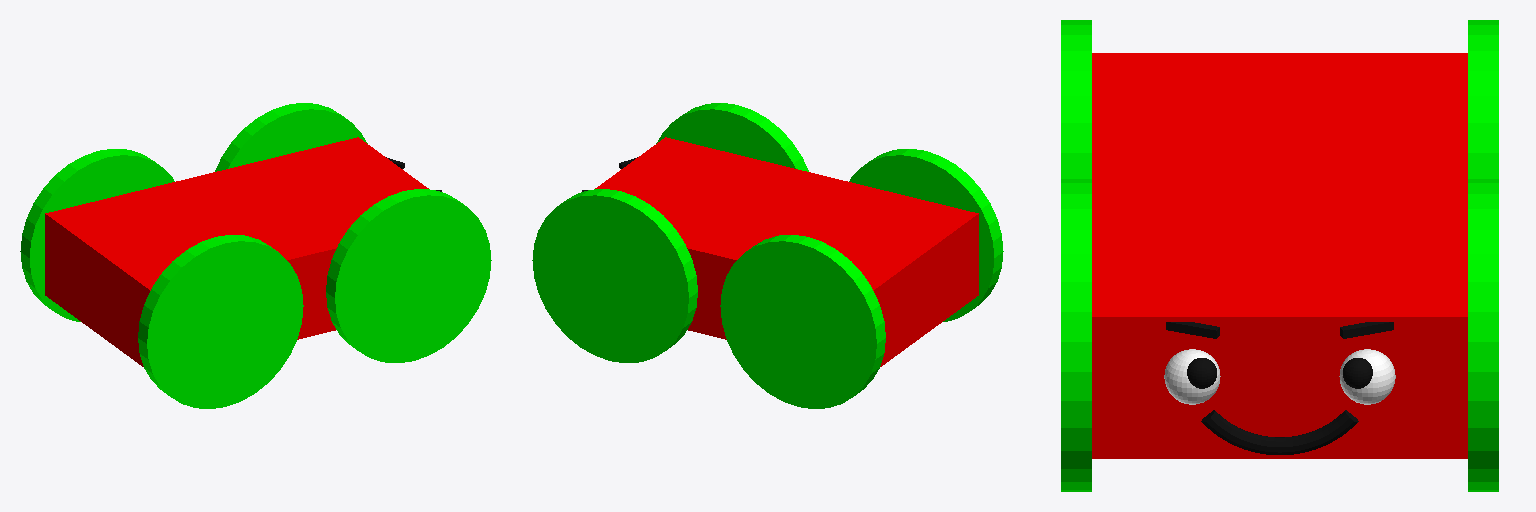
The robot description file, URDF, robot "car_robot":
<?xml version='1.0'?>
<robot name="car_robot">
	
	<material name="green">
		<color rgba="0 1 0.0 1"/>
	</material>

	<material name="white">
		<color rgba="1 1 1 1"/>
	</material>

	<material name="black">
		<color rgba="0.1 0.1 0.1 1"/>
	</material>
	
	<!--dummy link-->
	<link name="base_link"/>

	<!--chassis link-->
	<link name="chassis-link">
		<visual>
			<origin xyz="0 0 0" rpy="0 0 0" />
			<geometry>
				<box size="0.2 0.12 .05" />
			</geometry>
			<material name="red">
				<color rgba="1.0 0 0 1"/>
			</material>		
		</visual>
		<collision>
			<origin xyz="0 0 0" rpy="0 0 0" />
			<geometry>
				<box size="0.2 0.12 .01" />
			</geometry>
		</collision>
		<inertial>
			<mass value="0.4" />
			<inertia ixx="0.00048333" iyy="0.0013367" izz="0.0018133"
			ixy="0" ixz="0" iyz="0"/>
		</inertial>
	</link>

	<!-- ========== FACE LINKS ========== -->

	<link name="eye-left-link">
		<visual>
			<origin xyz="0 0 0" rpy="0 0 0" />
			<geometry><sphere radius="0.009" /></geometry>
			<material name="white" />
		</visual>
	</link>

	<link name="eye-right-link">
		<visual>
			<origin xyz="0 0 0" rpy="0 0 0" />
			<geometry><sphere radius="0.009" /></geometry>
			<material name="white" />
		</visual>
	</link>

	<link name="pupil-left-link">
		<visual>
			<origin xyz="0 0 0" rpy="0 0 0" />
			<geometry><sphere radius="0.005" /></geometry>
			<material name="black" />
		</visual>
	</link>

	<link name="pupil-right-link">
		<visual>
			<origin xyz="0 0 0" rpy="0 0 0" />
			<geometry><sphere radius="0.005" /></geometry>
			<material name="black" />
		</visual>
	</link>

	<link name="eyebrow-left-link">
		<visual>
			<origin xyz="0 0 0" rpy="0 0 0.4" />
			<geometry><box size="0.003 0.018 0.003" /></geometry>
			<material name="black" />
		</visual>
	</link>

	<link name="eyebrow-right-link">
		<visual>
			<origin xyz="0 0 0" rpy="0 0 -0.4" />
			<geometry><box size="0.003 0.018 0.003" /></geometry>
			<material name="black" />
		</visual>
	</link>

	<link name="smile-link">
	<visual>
		<origin xyz="0 0 0" rpy="0 0 0" />
		<geometry>
		<mesh filename="package://car_robot/meshes/smile.stl" scale="1 1 1"/>
		</geometry>
		<material name="black" />
	</visual>
	</link>

	<!-- ========== WHEEL LINKS ========== -->

	<link name="front-right-wheel-link">
		<visual>
			<origin xyz="0 0 0" rpy="1.57079 0 0" />
			<geometry>
				<cylinder radius ="0.05" length="0.01" />
			</geometry>
			<material name="green" />
		</visual>
		<collision>
			<origin xyz="0 0 0" rpy="1.57079 0 0" />
			<geometry>
				<cylinder radius ="0.05" length="0.01" />
			</geometry>
		</collision>
		<inertial>
			<origin xyz="0 0 0" rpy="1.57079 0 0" />
			<mass value="0.2" />
			<inertia ixx="0.00004667" iyy="0.00004667" izz="0.00009"
			ixy="0" ixz="0" iyz="0"/>
		</inertial>
	</link>
	
	<link name="front-left-wheel-link">
		<visual>
			<origin xyz="0 0 0" rpy="1.57079 0 0" />
			<geometry>
				<cylinder radius ="0.05" length="0.01" />
			</geometry>
			<material name="green" />
		</visual>
		<collision>
			<origin xyz="0 0 0" rpy="1.57079 0 0" />
			<geometry>
				<cylinder radius ="0.05" length="0.01" />
			</geometry>
		</collision>
		<inertial>
			<origin xyz="0 0 0" rpy="1.57079 0 0" />
			<mass value="0.2" />
			<inertia ixx="0.00004667" iyy="0.00004667" izz="0.00009"
			ixy="0" ixz="0" iyz="0"/>
		</inertial>
	</link>
	
	<link name="rear-right-wheel-link">
		<visual>
			<origin xyz="0 0 0" rpy="1.57079 0 0" />
			<geometry>
				<cylinder radius ="0.05" length="0.01" />
			</geometry>
			<material name="green" />
		</visual>
		<collision>
			<origin xyz="0 0 0" rpy="1.57079 0 0" />
			<geometry>
				<cylinder radius ="0.05" length="0.01" />
			</geometry>
		</collision>
		<inertial>
			<origin xyz="0 0 0" rpy="1.57079 0 0" />
			<mass value="0.2" />
			<inertia ixx="0.00004667" iyy="0.00004667" izz="0.00009"
			ixy="0" ixz="0" iyz="0"/>
		</inertial>
	</link>
	
	<link name="rear-left-wheel-link">
		<visual>
			<origin xyz="0 0 0" rpy="1.57079 0 0" />
			<geometry>
				<cylinder radius ="0.05" length="0.01" />
			</geometry>
			<material name="green" />
		</visual>
		<collision>
			<origin xyz="0 0 0" rpy="1.57079 0 0" />
			<geometry>
				<cylinder radius ="0.05" length="0.01" />
			</geometry>
		</collision>
		<inertial>
			<origin xyz="0 0 0" rpy="1.57079 0 0" />
			<mass value="0.2" />
			<inertia ixx="0.00004667" iyy="0.00004667" izz="0.00009"
			ixy="0" ixz="0" iyz="0"/>
		</inertial>
	</link>
	
	<!-- ========== CHASSIS JOINT ========== -->

	<joint name="joint-base-chassis" type="fixed">
		<parent link="base_link"/>
		<child link="chassis-link"/>
		<origin xyz="0 0 0.03" rpy="0 0 0" />
	</joint>

	<!-- ========== FACE JOINTS ========== -->

	<joint name="joint-eye-left" type="fixed">
		<parent link="chassis-link"/>
		<child link="eye-left-link"/>
		<origin xyz="0.102 0.028 0.005" rpy="0 0 0" />
	</joint>

	<joint name="joint-eye-right" type="fixed">
		<parent link="chassis-link"/>
		<child link="eye-right-link"/>
		<origin xyz="0.102 -0.028 0.005" rpy="0 0 0" />
	</joint>

	<joint name="joint-pupil-left" type="fixed">
		<parent link="eye-left-link"/>
		<child link="pupil-left-link"/>
		<origin xyz="0.006 -0.003 0.004" rpy="0 0 0" />
	</joint>

	<joint name="joint-pupil-right" type="fixed">
		<parent link="eye-right-link"/>
		<child link="pupil-right-link"/>
		<origin xyz="0.006 0.003 0.004" rpy="0 0 0" />
	</joint>

	<joint name="joint-eyebrow-left" type="fixed">
		<parent link="chassis-link"/>
		<child link="eyebrow-left-link"/>
		<origin xyz="0.102 0.028 0.022" rpy="0 0 0" />
	</joint>

	<joint name="joint-eyebrow-right" type="fixed">
		<parent link="chassis-link"/>
		<child link="eyebrow-right-link"/>
		<origin xyz="0.102 -0.028 0.022" rpy="0 0 0" />
	</joint>

<joint name="joint-smile" type="fixed">
	<parent link="chassis-link"/>
	<child link="smile-link"/>
	<origin xyz="0.101 0.0 0.0" rpy="0 0 0" />
	</joint>


	<!-- ========== WHEEL JOINTS ========== -->
	
	<joint name="joint-chassis-front-right-wheel" type="continuous">
		<parent link="chassis-link"/>
		<child link="front-right-wheel-link"/>
		<origin xyz="0.06 0.065 0" rpy="0 0 0" />
		<axis xyz="0 1 0" />
	</joint>
	
	<joint name="joint-chassis-front-left-wheel" type="continuous">
		<parent link="chassis-link"/>
		<child link="front-left-wheel-link"/>
		<origin xyz="0.06 -0.065 0" rpy="0 0 0" />
		<axis xyz="0 1 0" />
	</joint>
	
	<joint name="joint-chassis-rear-right-wheel" type="continuous">
		<parent link="chassis-link"/>
		<child link="rear-right-wheel-link"/>
		<origin xyz="-0.06 0.065 0" rpy="0 0 0" />
		<axis xyz="0 1 0" />
	</joint>
	
	<joint name="joint-chassis-rear-left-wheel" type="continuous">
		<parent link="chassis-link"/>
		<child link="rear-left-wheel-link"/>
		<origin xyz="-0.06 -0.065 0" rpy="0 0 0" />
		<axis xyz="0 1 0" />
	</joint>
	
</robot>

--- Facts derived from the render (not from the file) ---
Views: 3 orthographic renders of the robot side by side, from view 1: azimuth 30°, elevation 25°; view 2: azimuth 150°, elevation 25°; view 3: azimuth 270°, elevation 25°.
Robot: car_robot — 13 links, 12 joints (4 continuous, 8 fixed); root link base_link; default pose: all joints at 0.
Links seen in each view (by area): view 1: chassis-link, front-left-wheel-link, rear-left-wheel-link, rear-right-wheel-link, front-right-wheel-link; view 2: chassis-link, front-right-wheel-link, rear-right-wheel-link, rear-left-wheel-link, front-left-wheel-link; view 3: chassis-link, front-right-wheel-link, front-left-wheel-link, rear-right-wheel-link, rear-left-wheel-link, smile-link, eye-left-link, eye-right-link, pupil-left-link, pupil-right-link, eyebrow-left-link, eyebrow-right-link.
Link boxes in pixels (box(x1,y1,x2,y2)): chassis-link: box(45, 137, 428, 366); front-left-wheel-link: box(326, 189, 491, 362); rear-left-wheel-link: box(138, 235, 303, 408); rear-right-wheel-link: box(20, 149, 174, 321); front-right-wheel-link: box(215, 103, 367, 171); chassis-link: box(595, 137, 978, 366); front-right-wheel-link: box(532, 189, 697, 362); rear-right-wheel-link: box(720, 235, 885, 408); rear-left-wheel-link: box(849, 149, 1003, 321); front-left-wheel-link: box(656, 103, 808, 171); chassis-link: box(1092, 53, 1467, 458); front-right-wheel-link: box(1468, 179, 1498, 491); front-left-wheel-link: box(1061, 179, 1091, 491); rear-right-wheel-link: box(1468, 20, 1498, 178); rear-left-wheel-link: box(1061, 20, 1091, 178); smile-link: box(1201, 410, 1358, 454); eye-left-link: box(1339, 349, 1395, 404); eye-right-link: box(1164, 349, 1220, 404); pupil-left-link: box(1343, 358, 1372, 388); pupil-right-link: box(1187, 358, 1216, 388); eyebrow-left-link: box(1340, 322, 1393, 338); eyebrow-right-link: box(1166, 322, 1219, 338).
Size in the robot's own frame: 0.223 by 0.14 by 0.1 metres.
1 mesh visuals loaded from 1 distinct referenced files (1 binary STL).